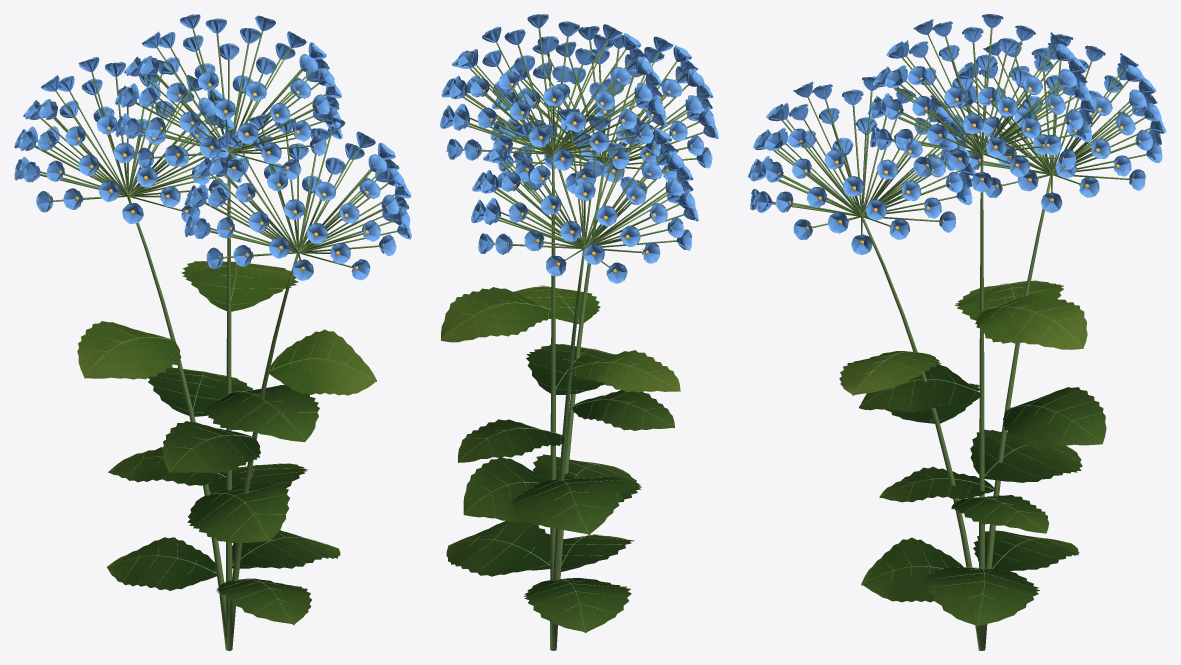
Rendered from hydrangea-09.glb.
3 renders of one model, left to right at view 1: azimuth 30°, elevation 25°; view 2: azimuth 150°, elevation 25°; view 3: azimuth 270°, elevation 25°, orthographic.
Parts seen in each view (by area): view 1: hydrangea_stage_09_hydrangea_petal.016, hydrangea_stage_09_leaf_veins.016, hydrangea_stage_09_stem_fibres.016, hydrangea_stage_09_young_leaf.016, hydrangea_stage_09_raised_midveins.016, hydrangea_stage_09_pollen_granules.016; view 2: hydrangea_stage_09_hydrangea_petal.016, hydrangea_stage_09_leaf_veins.016, hydrangea_stage_09_stem_fibres.016, hydrangea_stage_09_young_leaf.016, hydrangea_stage_09_raised_midveins.016, hydrangea_stage_09_pollen_granules.016; view 3: hydrangea_stage_09_hydrangea_petal.016, hydrangea_stage_09_leaf_veins.016, hydrangea_stage_09_stem_fibres.016, hydrangea_stage_09_young_leaf.016, hydrangea_stage_09_raised_midveins.016, hydrangea_stage_09_pollen_granules.016.
Boxes of the visible parts, left/top/right/bottom form: hydrangea_stage_09_hydrangea_petal.016: left=14, top=14, right=411, bottom=280; hydrangea_stage_09_leaf_veins.016: left=107, top=367, right=340, bottom=625; hydrangea_stage_09_stem_fibres.016: left=35, top=29, right=396, bottom=650; hydrangea_stage_09_young_leaf.016: left=77, top=261, right=376, bottom=395; hydrangea_stage_09_raised_midveins.016: left=80, top=261, right=375, bottom=622; hydrangea_stage_09_pollen_granules.016: left=33, top=24, right=396, bottom=271; hydrangea_stage_09_hydrangea_petal.016: left=440, top=14, right=718, bottom=283; hydrangea_stage_09_leaf_veins.016: left=446, top=344, right=674, bottom=633; hydrangea_stage_09_stem_fibres.016: left=463, top=28, right=702, bottom=650; hydrangea_stage_09_young_leaf.016: left=441, top=286, right=680, bottom=392; hydrangea_stage_09_raised_midveins.016: left=441, top=285, right=679, bottom=631; hydrangea_stage_09_pollen_granules.016: left=460, top=24, right=706, bottom=273; hydrangea_stage_09_hydrangea_petal.016: left=747, top=14, right=1166, bottom=255; hydrangea_stage_09_leaf_veins.016: left=859, top=363, right=1106, bottom=626; hydrangea_stage_09_stem_fibres.016: left=772, top=28, right=1150, bottom=650; hydrangea_stage_09_young_leaf.016: left=839, top=280, right=1087, bottom=395; hydrangea_stage_09_raised_midveins.016: left=842, top=281, right=1101, bottom=625; hydrangea_stage_09_pollen_granules.016: left=763, top=24, right=1154, bottom=244.
Bounding box in the file's own units: 0.3674 × 0.7785 × 0.487.
Materials: 6 (3 with a texture image).
